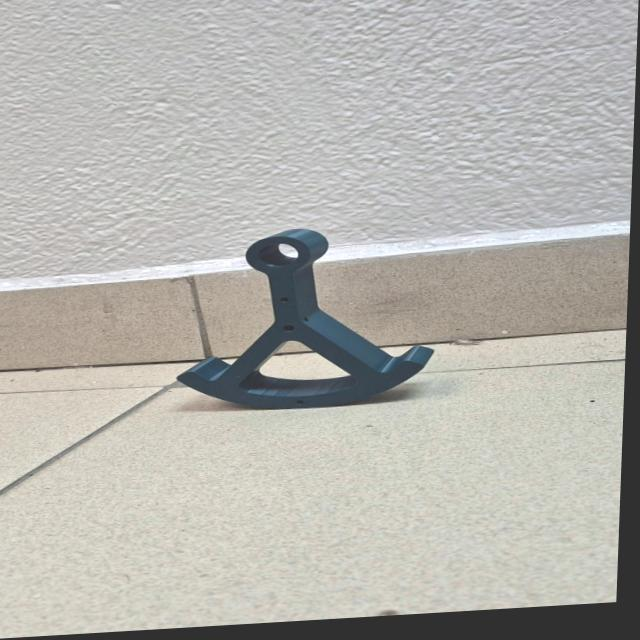haptic: (173, 218, 441, 418)
